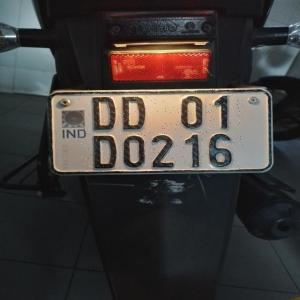Plate: (77, 89, 243, 172)
